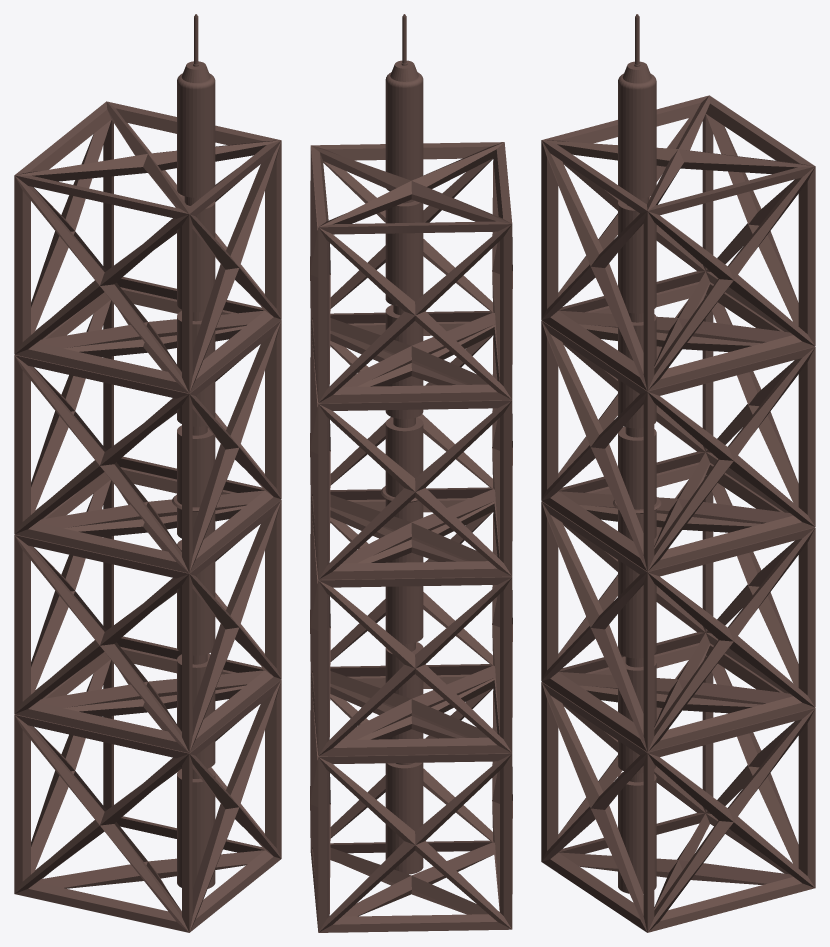
File: 前景大方盒烟囱_001.fbx
3 renders of one model, left to right at view 1: azimuth 30°, elevation 25°; view 2: azimuth 150°, elevation 25°; view 3: azimuth 270°, elevation 25°, orthographic. The views are drawn at different scales.
Visible parts, largest first — view 1: 前景大方盒烟囱.001; view 2: 前景大方盒烟囱.001; view 3: 前景大方盒烟囱.001.
Part boxes in pixels (left/top/right/bottom): 前景大方盒烟囱.001: left=14, top=14, right=281, bottom=932; 前景大方盒烟囱.001: left=310, top=14, right=512, bottom=932; 前景大方盒烟囱.001: left=541, top=14, right=815, bottom=932.
Size of the model in its own units: 2.42 by 8.55 by 2.42.
